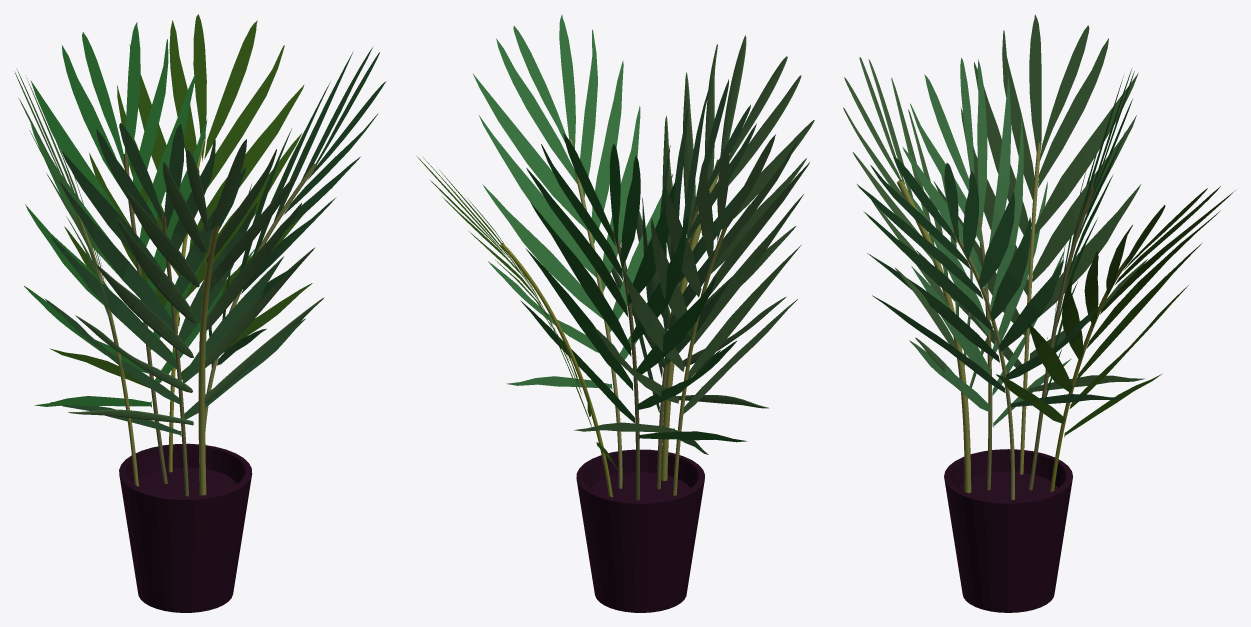
File: Ghiveci.fbx
3 renders of one model, left to right at view 1: azimuth 30°, elevation 25°; view 2: azimuth 150°, elevation 25°; view 3: azimuth 270°, elevation 25°, orthographic. The views are drawn at different scales.
Parts seen in each view (by area): view 1: Cylinder, Plane.008, Plane.004, Plane.003, Plane.006, Plane, Plane.002, NurbsPath.008, NurbsPath.004, NurbsPath.016, NurbsPath.006, NurbsPath (+1 smaller); view 2: Cylinder, Plane, Plane.003, Plane.002, Plane.004, Plane.008, Plane.006, NurbsPath.012, NurbsPath.004, NurbsPath.008, NurbsPath.006, NurbsPath (+1 smaller); view 3: Cylinder, Plane.002, Plane, Plane.008, Plane.006, Plane.004, Plane.003, NurbsPath.008, NurbsPath.004, NurbsPath.006, NurbsPath, NurbsPath.012 (+1 smaller).
Part boxes in pixels (x1,y1,x2,y2): Cylinder: (119, 443, 252, 612); Plane.008: (44, 123, 305, 436); Plane.004: (68, 139, 324, 425); Plane.003: (24, 22, 254, 407); Plane.006: (50, 14, 312, 388); Plane: (208, 47, 386, 367); Plane.002: (14, 68, 127, 396); NurbsPath.008: (198, 225, 219, 495); NurbsPath.004: (67, 190, 138, 486); NurbsPath.016: (162, 215, 188, 496); NurbsPath.006: (123, 153, 167, 483); NurbsPath: (205, 163, 316, 430); Cylinder: (576, 449, 704, 612); Plane: (473, 14, 698, 389); Plane.003: (520, 133, 747, 442); Plane.002: (574, 134, 809, 432); Plane.004: (611, 35, 814, 408); Plane.008: (625, 79, 756, 454); Plane.006: (417, 156, 617, 469); NurbsPath.012: (500, 243, 612, 497); NurbsPath.004: (673, 227, 726, 495); NurbsPath.008: (661, 159, 719, 480); NurbsPath.006: (612, 230, 639, 500); NurbsPath: (569, 139, 622, 488); Cylinder: (944, 449, 1072, 612); Plane.002: (916, 14, 1147, 391); Plane: (857, 156, 1122, 408); Plane.008: (902, 58, 1071, 427); Plane.006: (996, 186, 1235, 437); Plane.004: (843, 57, 992, 398); Plane.003: (1045, 69, 1134, 397); NurbsPath.008: (897, 179, 971, 493); NurbsPath.004: (1019, 142, 1041, 474); NurbsPath.006: (1028, 187, 1094, 490); NurbsPath: (952, 229, 1014, 499); NurbsPath.012: (1050, 256, 1128, 492).
Bounding box in the file's own units: 284 × 430 × 302.
